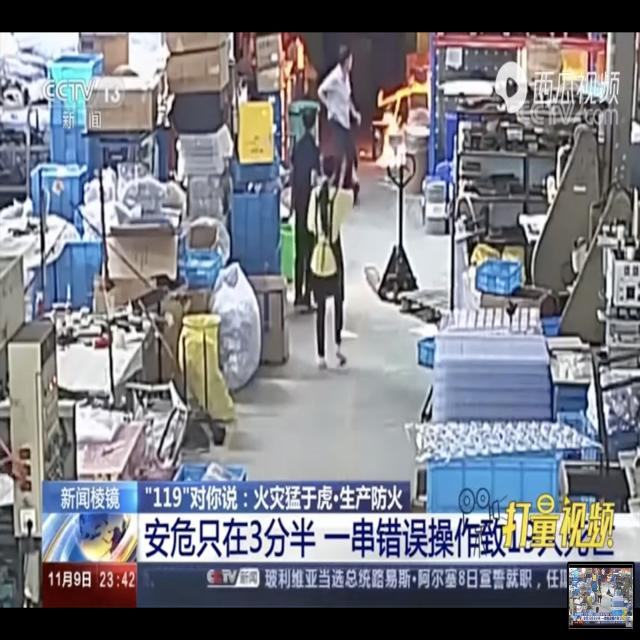Fogo: (365, 81, 414, 181)
